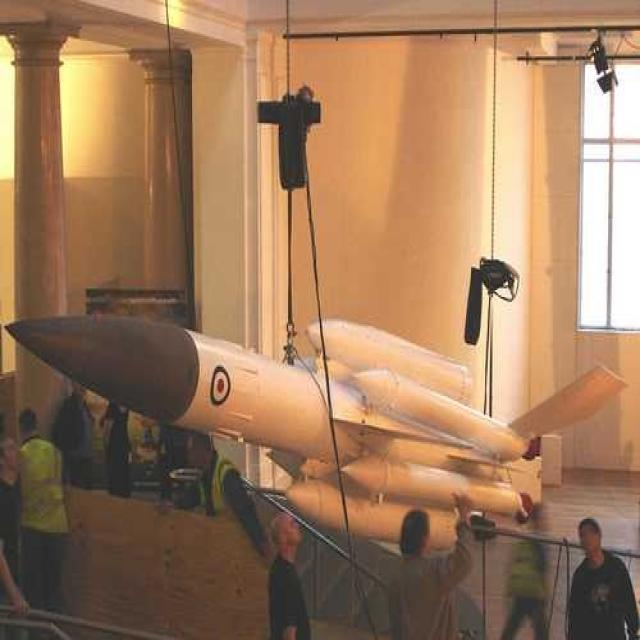missile: (4, 309, 536, 546)
